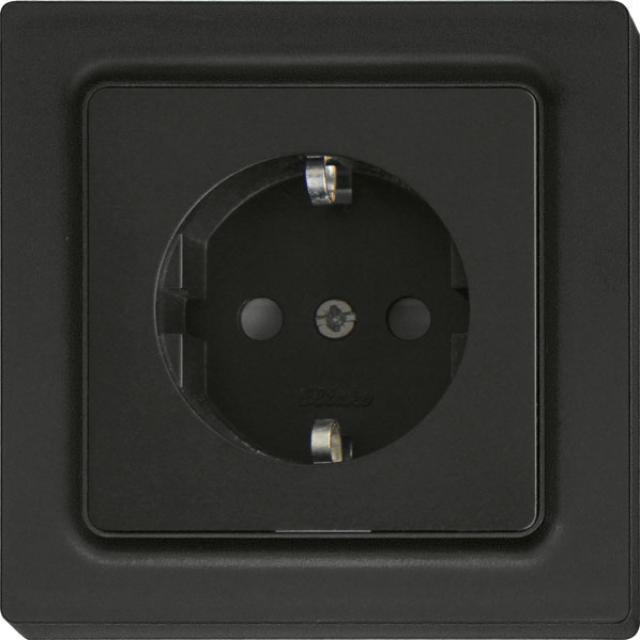typeb: (20, 32, 616, 626)
